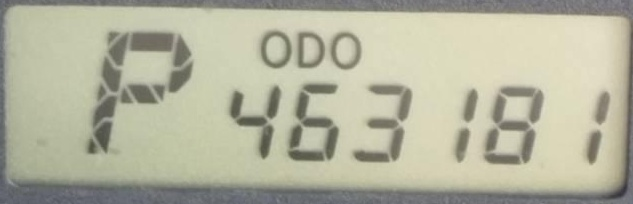1: (580, 87, 615, 167), (447, 83, 480, 164)
3: (348, 82, 413, 163)
4: (222, 79, 282, 160)
6: (287, 80, 342, 164)
8: (481, 81, 542, 168)
X: (74, 26, 198, 156), (328, 29, 365, 70), (258, 28, 293, 69), (294, 29, 326, 69)
